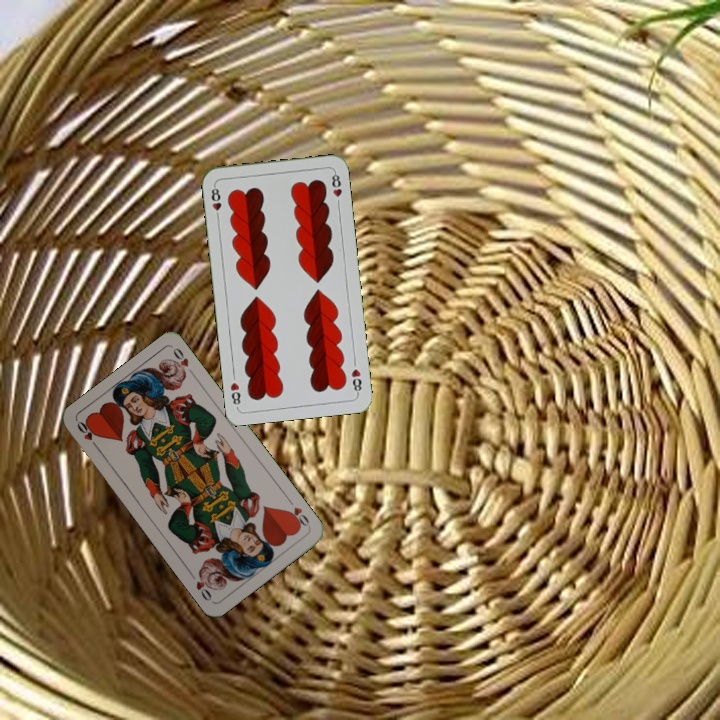H8: (207, 181, 224, 222), (347, 365, 364, 397)
HO: (283, 494, 312, 530), (73, 417, 102, 452)
